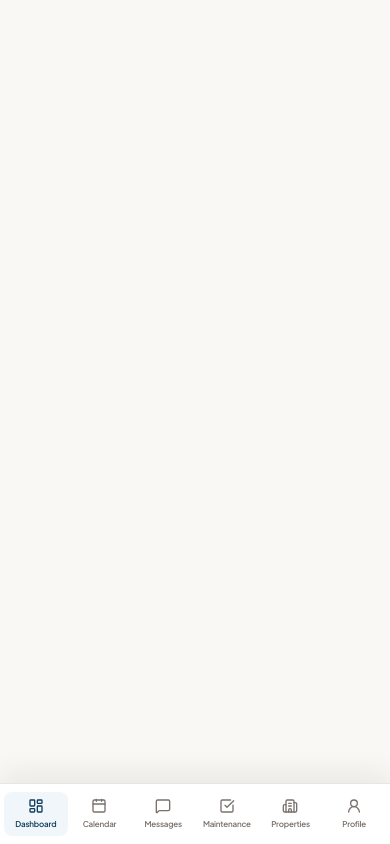
Test case: Sidebar authorization › keeps company settings available to managers from the mobile profile
Click the button "Profile". click: [354, 814]
box: x1=322 y1=792 x2=386 y2=836
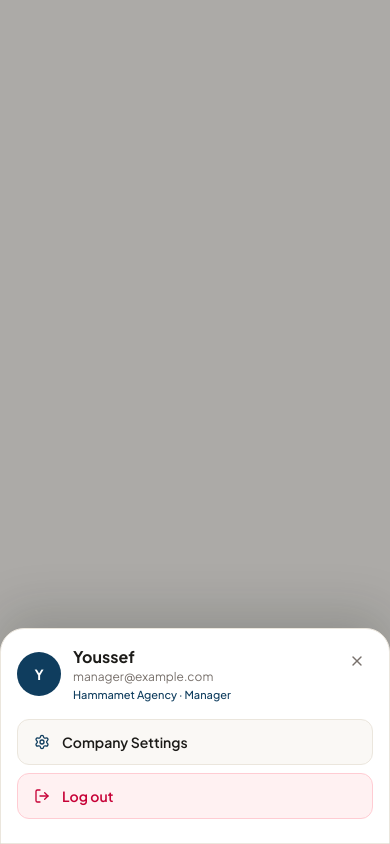
Click the button "Company Settings". click: [125, 742]
box: x1=17 y1=719 x2=373 y2=765
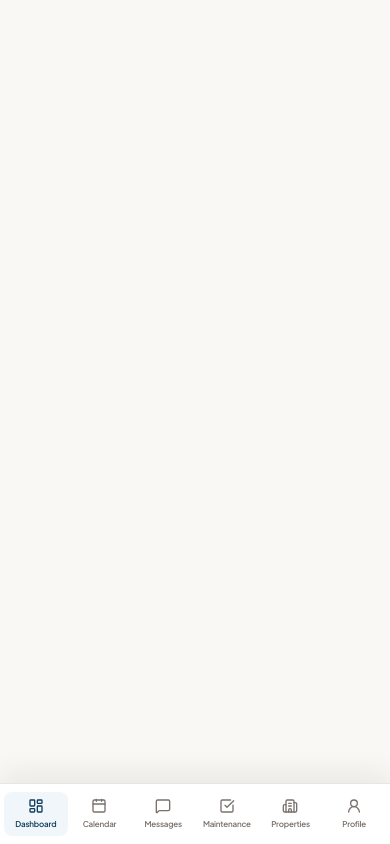
Now the heading "Youssef" is gone
